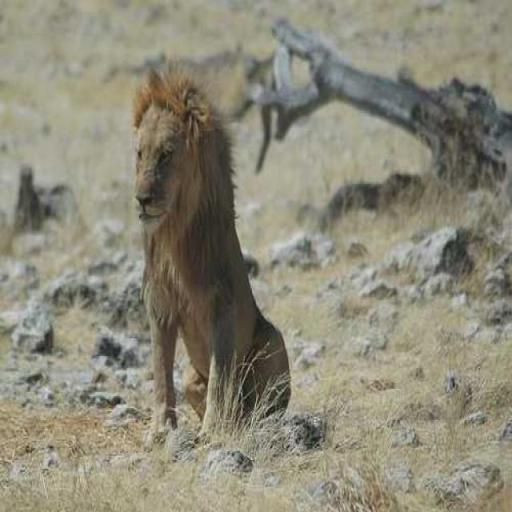Lion: (130, 61, 292, 448)
